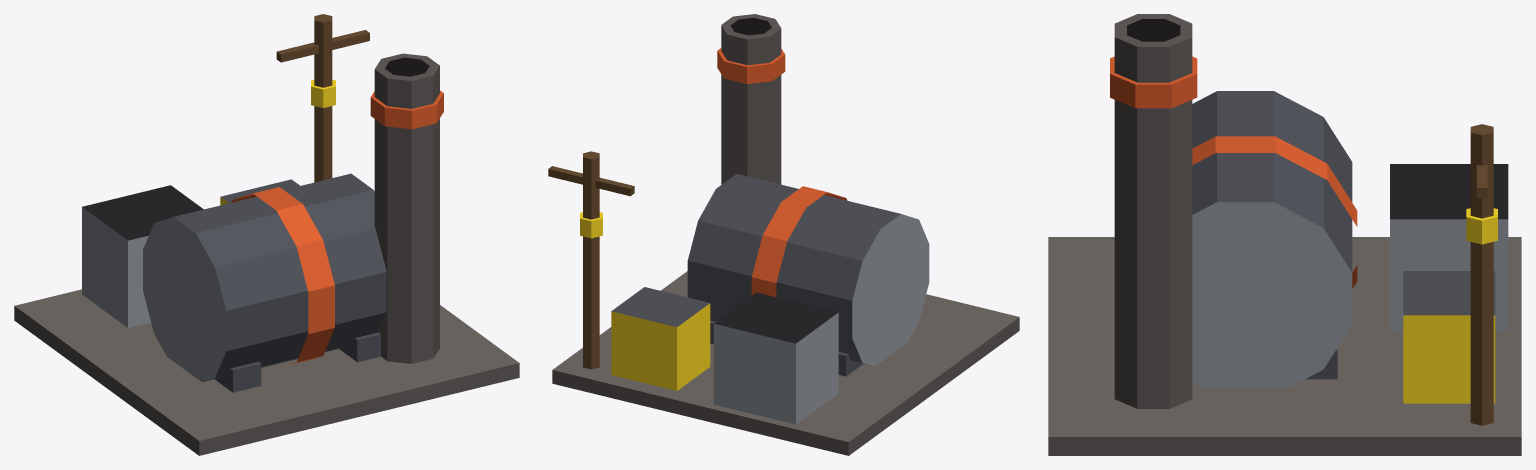
File: burner_generator.glb
3 views of the same model, side by side, from view 1: azimuth 30°, elevation 25°; view 2: azimuth 150°, elevation 25°; view 3: azimuth 270°, elevation 25° (orthographic). The views are drawn at different scales.
Parts seen in each view (by area): view 1: burner_generator; view 2: burner_generator; view 3: burner_generator.
Part boxes in pixels (<box>): burner_generator: <box>14,14,519,455</box>; burner_generator: <box>548,14,1019,455</box>; burner_generator: <box>1048,14,1521,455</box>.
Bounding box in the file's own units: 1.9 × 1.6 × 1.8.
